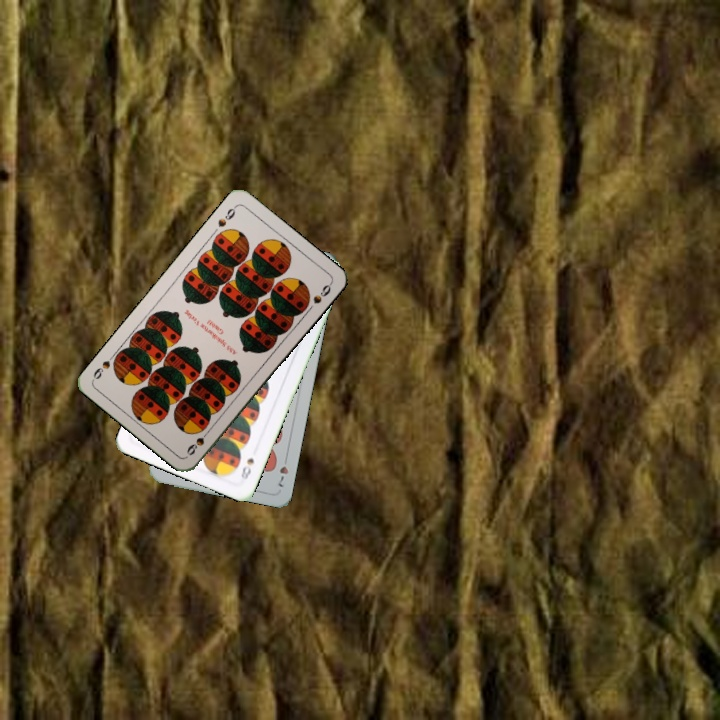H7: (274, 451, 291, 490)
S8: (237, 454, 257, 485)
S9: (182, 424, 214, 458), (214, 202, 239, 230)
